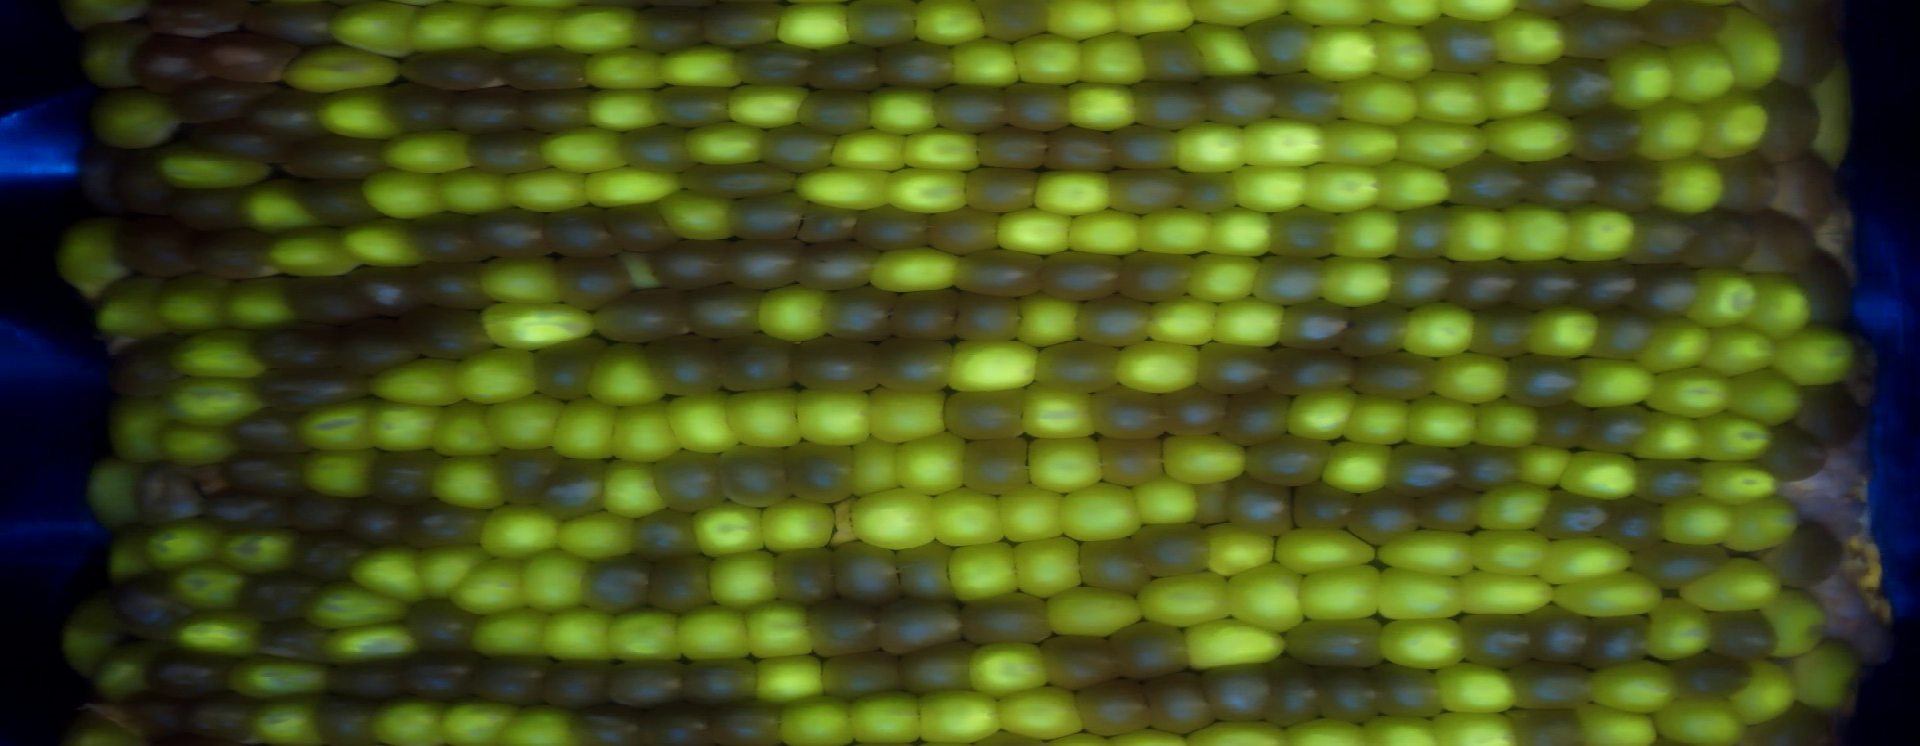fluorescent: (47, 211, 140, 304), (272, 36, 405, 98), (1673, 550, 1789, 620), (82, 85, 187, 157), (73, 15, 165, 96), (1708, 2, 1787, 97), (473, 298, 598, 355), (147, 142, 283, 195), (156, 371, 274, 431), (1131, 566, 1239, 632), (1179, 612, 1289, 676), (1763, 320, 1861, 391), (1222, 559, 1310, 637), (84, 272, 178, 345), (55, 593, 133, 680), (163, 323, 273, 385), (253, 222, 361, 284), (847, 481, 942, 552), (1550, 566, 1669, 622), (219, 649, 343, 703), (1370, 523, 1483, 582), (160, 604, 271, 664), (582, 337, 669, 413), (1040, 579, 1145, 642), (1477, 104, 1582, 167), (442, 552, 541, 619), (910, 681, 1010, 746), (1264, 523, 1387, 576), (451, 341, 544, 410), (302, 578, 418, 635), (1804, 51, 1858, 171), (1752, 583, 1833, 663), (1785, 635, 1866, 714), (324, 1, 427, 64), (718, 383, 809, 453), (369, 352, 475, 412), (531, 600, 624, 669), (1371, 561, 1473, 624), (231, 174, 331, 238), (284, 391, 381, 456), (1599, 37, 1679, 115), (1693, 88, 1773, 167), (789, 159, 899, 216), (1583, 655, 1682, 718), (84, 636, 171, 707), (340, 540, 433, 606), (600, 601, 693, 668), (1009, 530, 1089, 608), (313, 81, 411, 143), (144, 269, 235, 337), (1155, 426, 1254, 488), (1562, 352, 1662, 413), (789, 382, 876, 452), (1723, 657, 1802, 733), (1052, 480, 1149, 543), (1742, 268, 1816, 350), (467, 603, 561, 666), (662, 386, 747, 457), (947, 334, 1044, 396), (888, 428, 973, 497), (740, 595, 825, 665), (604, 393, 683, 468), (940, 534, 1020, 609), (1452, 565, 1558, 621), (1532, 534, 1643, 587), (549, 1, 644, 62), (421, 448, 509, 514), (1472, 56, 1560, 122), (996, 681, 1089, 744), (860, 382, 949, 447), (964, 638, 1053, 703), (670, 600, 756, 668), (478, 500, 568, 563), (1294, 562, 1385, 626), (1164, 114, 1251, 180), (923, 484, 1010, 550), (1681, 263, 1762, 334), (651, 185, 743, 247), (358, 164, 453, 224), (1407, 65, 1495, 130), (1300, 21, 1385, 88), (1555, 200, 1640, 267), (580, 162, 688, 214), (1471, 474, 1556, 540), (1379, 612, 1473, 673), (596, 452, 676, 523), (1663, 36, 1742, 107), (1498, 197, 1577, 268), (1393, 116, 1491, 174), (1718, 492, 1800, 561), (474, 251, 569, 310), (218, 269, 306, 333), (1651, 693, 1757, 746), (471, 1, 571, 58), (1643, 592, 1720, 664), (1107, 337, 1204, 394), (749, 281, 835, 345), (1393, 298, 1479, 363), (141, 516, 235, 575), (1237, 114, 1332, 171), (549, 391, 621, 467), (1488, 7, 1572, 72), (1636, 97, 1713, 168), (380, 124, 481, 178), (77, 458, 147, 537), (1430, 659, 1523, 718), (1434, 198, 1513, 267), (336, 213, 430, 271), (533, 122, 633, 176), (317, 616, 425, 666), (757, 492, 840, 557), (1633, 314, 1717, 379), (1180, 246, 1269, 307), (482, 393, 571, 454), (1333, 70, 1425, 129), (1696, 322, 1784, 383), (1025, 432, 1109, 496), (1691, 408, 1780, 468), (1521, 300, 1607, 363), (866, 241, 965, 295), (211, 524, 307, 579), (1180, 18, 1267, 80), (519, 545, 591, 619), (498, 165, 601, 217), (1555, 445, 1643, 505), (1368, 158, 1460, 216), (1015, 381, 1100, 443), (841, 684, 926, 746), (1199, 517, 1283, 579), (1300, 156, 1385, 218), (703, 546, 782, 612), (164, 557, 253, 616), (880, 162, 973, 218), (1007, 28, 1089, 92), (1649, 152, 1731, 216), (430, 160, 520, 218), (154, 416, 249, 472), (298, 443, 382, 505), (687, 499, 771, 560), (402, 1, 491, 59), (1723, 366, 1809, 426), (100, 393, 171, 465), (677, 116, 770, 171), (1653, 492, 1740, 551), (1464, 524, 1555, 581), (994, 481, 1071, 548), (578, 42, 673, 94), (1060, 75, 1142, 136), (1400, 391, 1482, 452), (720, 80, 813, 134), (1224, 160, 1315, 216), (1692, 456, 1783, 511), (364, 398, 448, 457), (1140, 290, 1221, 352), (424, 398, 504, 459), (1319, 251, 1400, 312), (1367, 18, 1441, 85), (748, 650, 830, 710), (553, 507, 640, 563), (992, 201, 1075, 260), (1127, 205, 1217, 258), (1468, 392, 1548, 453), (1063, 206, 1149, 262), (1014, 288, 1089, 352), (411, 539, 486, 603), (1029, 167, 1117, 220), (1325, 205, 1406, 263), (656, 40, 748, 92), (768, 1, 853, 56), (776, 691, 862, 746), (1207, 294, 1289, 352), (1318, 439, 1400, 496), (898, 124, 987, 176), (1071, 28, 1150, 88), (863, 80, 943, 138), (1284, 382, 1358, 446), (1431, 349, 1512, 407), (1629, 405, 1704, 467), (825, 124, 913, 176), (947, 33, 1024, 92), (1338, 391, 1416, 450), (1316, 120, 1404, 170), (580, 85, 666, 136), (907, 1, 997, 50), (1127, 472, 1202, 529), (1573, 699, 1665, 746), (1198, 205, 1275, 258), (844, 432, 905, 499), (1427, 707, 1524, 746), (56, 1, 164, 37), (1040, 1, 1127, 44), (1109, 1, 1204, 40), (100, 526, 156, 590), (1182, 717, 1300, 746), (1512, 440, 1577, 491), (1180, 1, 1284, 32), (1278, 714, 1378, 746), (1358, 712, 1444, 746), (1280, 1, 1382, 29), (610, 247, 665, 294), (1364, 1, 1451, 29), (1431, 1, 1522, 26)
nonfluorescent: (1760, 4, 1843, 96), (105, 563, 193, 649), (585, 284, 697, 349), (1755, 518, 1849, 594), (1750, 76, 1831, 164), (189, 29, 305, 91), (520, 332, 617, 404), (1625, 537, 1736, 599), (246, 365, 372, 419), (1731, 205, 1821, 281), (1032, 626, 1128, 697), (1282, 612, 1393, 673), (782, 332, 883, 398), (707, 330, 803, 398), (958, 586, 1059, 650), (107, 214, 201, 284), (182, 225, 291, 285), (397, 206, 497, 271), (104, 330, 192, 403), (1442, 149, 1540, 216), (1790, 243, 1859, 337), (162, 75, 284, 127), (331, 315, 430, 379), (1221, 472, 1303, 548), (1195, 657, 1277, 733), (649, 446, 733, 519), (1134, 666, 1218, 740), (1768, 149, 1842, 234), (1237, 432, 1340, 492), (647, 233, 740, 299), (187, 114, 296, 170), (111, 145, 187, 225), (1260, 341, 1364, 399), (1069, 676, 1160, 744), (278, 272, 380, 332), (876, 595, 967, 661), (1500, 655, 1599, 717), (949, 245, 1054, 303), (1030, 338, 1128, 399), (1553, 2, 1651, 64), (122, 29, 213, 96), (140, 647, 244, 704), (827, 539, 907, 612), (640, 331, 722, 403), (484, 442, 566, 514), (1104, 620, 1198, 684), (530, 454, 613, 526), (402, 304, 500, 364), (229, 568, 327, 628), (801, 594, 888, 661), (1749, 421, 1836, 489), (714, 442, 795, 514), (640, 550, 721, 622), (1029, 245, 1128, 304), (714, 233, 807, 295), (778, 439, 861, 508), (680, 278, 764, 347), (339, 260, 433, 321), (600, 654, 696, 714), (1367, 655, 1449, 725), (722, 37, 824, 93), (1231, 11, 1314, 80), (864, 336, 958, 397), (398, 647, 487, 710), (392, 47, 511, 94), (1709, 146, 1787, 219), (1416, 12, 1506, 75), (402, 593, 489, 658), (1788, 380, 1869, 450), (1540, 51, 1621, 121), (1347, 348, 1445, 405), (407, 255, 498, 316), (672, 158, 803, 201), (396, 495, 491, 554), (675, 654, 770, 713), (468, 652, 561, 712), (1311, 659, 1389, 731), (551, 250, 637, 315), (288, 131, 396, 183), (791, 236, 885, 295), (234, 1, 344, 51), (213, 448, 313, 503), (129, 463, 211, 530), (538, 202, 629, 262), (1449, 610, 1537, 673), (1517, 154, 1607, 216), (947, 281, 1026, 349), (1089, 382, 1174, 446), (1261, 650, 1329, 731), (940, 383, 1031, 443), (1193, 338, 1280, 401), (1131, 519, 1218, 582), (1343, 486, 1425, 552), (1112, 247, 1200, 309), (245, 322, 343, 377), (814, 284, 902, 345), (579, 550, 656, 620), (365, 447, 449, 511), (1691, 606, 1787, 663), (928, 80, 1018, 140), (1667, 648, 1760, 706), (896, 637, 982, 699), (1626, 451, 1712, 513), (1678, 207, 1763, 269), (1629, 1, 1733, 53), (67, 135, 132, 217), (846, 202, 940, 258), (1521, 601, 1597, 671), (176, 686, 264, 746), (816, 646, 904, 706), (1569, 99, 1647, 167), (1622, 206, 1707, 268), (1335, 296, 1414, 363), (1260, 201, 1346, 262), (1071, 290, 1157, 352), (1381, 439, 1467, 500), (288, 175, 381, 232), (1131, 24, 1213, 88), (768, 541, 842, 611), (1591, 149, 1668, 217), (1580, 611, 1659, 676), (1499, 348, 1588, 405), (615, 119, 700, 179), (471, 205, 557, 265), (118, 684, 200, 746), (1262, 67, 1349, 126), (1626, 256, 1703, 322), (1127, 75, 1210, 136), (378, 75, 457, 140), (1200, 72, 1284, 132), (495, 42, 593, 93), (203, 485, 301, 537), (320, 654, 418, 706), (135, 1, 249, 45), (958, 434, 1033, 500), (1217, 388, 1294, 453), (756, 119, 842, 176), (876, 36, 959, 96), (293, 527, 376, 587), (1594, 491, 1673, 555), (1381, 250, 1461, 312), (722, 187, 807, 246), (1533, 485, 1618, 544), (1273, 295, 1359, 353), (244, 86, 333, 141), (885, 283, 962, 347), (798, 39, 885, 96), (893, 539, 964, 608), (1560, 256, 1644, 314), (231, 405, 320, 461), (996, 76, 1076, 136), (463, 127, 557, 179), (1466, 303, 1547, 363), (539, 654, 618, 714), (441, 83, 525, 140), (1101, 164, 1189, 218), (1289, 475, 1365, 538), (961, 160, 1044, 217), (1248, 251, 1331, 307), (624, 508, 708, 565), (1444, 254, 1523, 312), (1510, 255, 1589, 314), (694, 2, 787, 53), (922, 205, 1007, 260), (624, 5, 713, 58), (171, 183, 260, 235), (704, 695, 793, 746), (1033, 124, 1120, 176), (251, 615, 338, 668), (647, 80, 735, 131), (1157, 383, 1236, 441), (602, 198, 682, 255), (1586, 304, 1660, 364), (1089, 435, 1169, 490), (1833, 323, 1888, 404), (793, 85, 878, 137), (629, 698, 722, 746), (1104, 120, 1183, 176), (1499, 699, 1593, 746), (1445, 439, 1524, 494), (1580, 402, 1660, 456), (339, 492, 411, 552), (970, 124, 1058, 173), (841, 1, 924, 53), (311, 691, 384, 746), (514, 86, 599, 134), (1416, 481, 1487, 538), (284, 488, 362, 537), (1392, 195, 1450, 261), (569, 704, 658, 746), (971, 1, 1051, 47), (1527, 401, 1598, 451), (1178, 167, 1243, 218), (797, 198, 862, 249), (1183, 477, 1237, 529)
